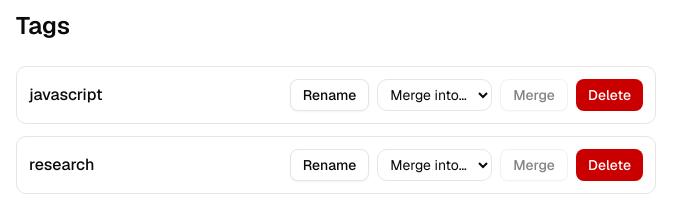
Test: TagManagementView › merges a tag into another and removes the source from the list
Expected: the text "javascript" is shown, [29,83,103,107]
Select "research" in the dropdown named "Merge javascript into" at point(435, 95), box [377,79,492,111]
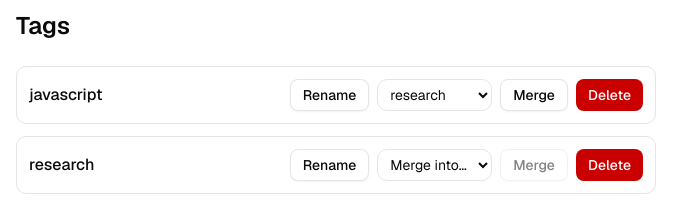
Click the button "Merge" in the row of "javascript" at point(534, 95), box [500,79,568,111]
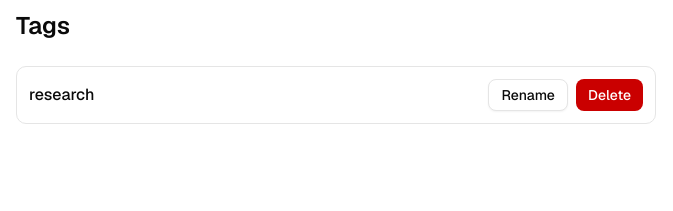
Result: the text "javascript" is gone
